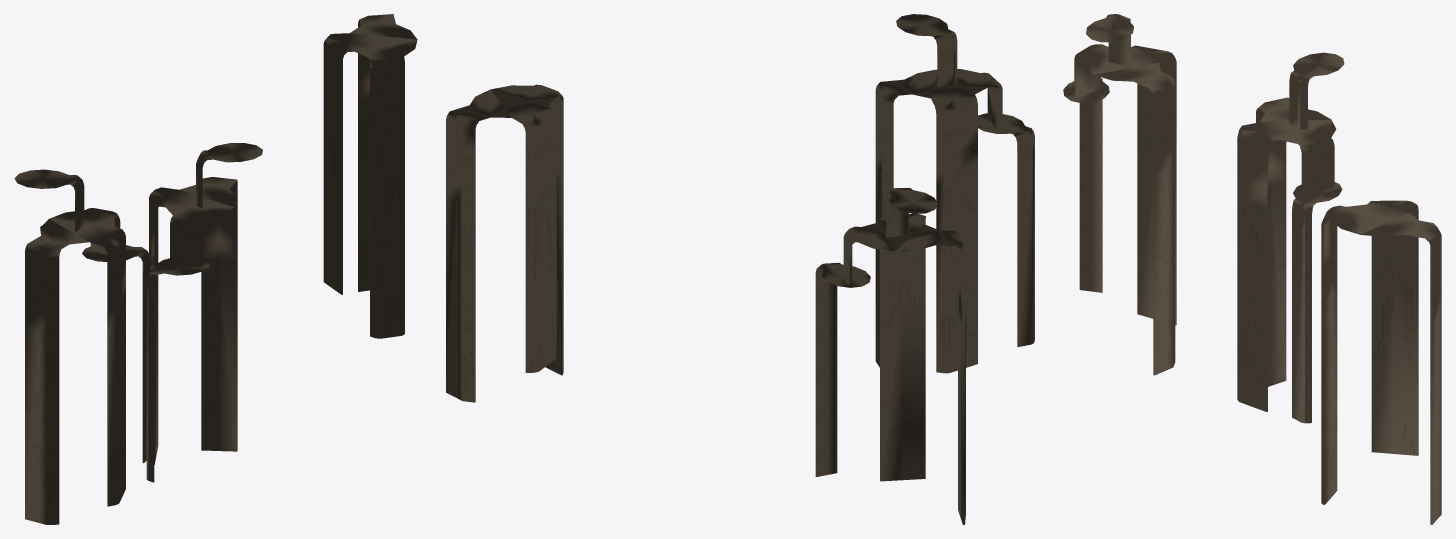
Rendered from stg220_MotChocoA_01.obj.
3 renders of one model, left to right at view 1: azimuth 30°, elevation 25°; view 2: azimuth 150°, elevation 25°; view 3: azimuth 270°, elevation 25°, orthographic. The views are drawn at different scales.
Parts seen in each view (by area): view 1: polygon2, polygon0, polygon1; view 2: polygon2, polygon1, polygon0; view 3: polygon2, polygon0, polygon1.
Boxes of the visible parts, box(x1,y1,x2,y2) form: polygon2: box(14, 169, 148, 524); polygon0: box(323, 14, 417, 338); polygon1: box(146, 143, 262, 482); polygon2: box(815, 188, 965, 524); polygon1: box(875, 14, 1034, 373); polygon0: box(446, 84, 563, 402); polygon2: box(1237, 52, 1344, 423); polygon0: box(1321, 200, 1441, 524); polygon1: box(1063, 14, 1176, 375).
Size of the model in its own units: 2682 by 2327 by 1928.
Materials: 1 (1 with a texture image).
